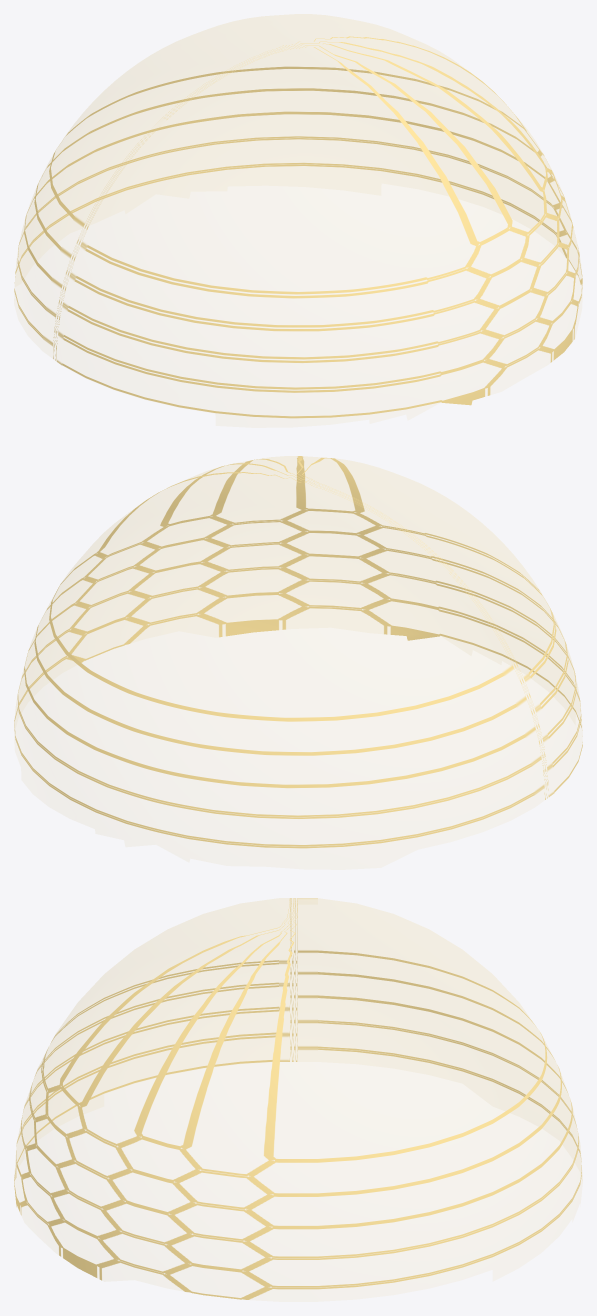
The model's file is fx_dome_gold.glb.
3 renders of one model, top to bottom at view 1: azimuth 30°, elevation 25°; view 2: azimuth 150°, elevation 25°; view 3: azimuth 270°, elevation 25°, orthographic.
Visible parts, largest first — view 1: fx_dome_gold; view 2: fx_dome_gold; view 3: fx_dome_gold.
Boxes of the visible parts, x1,y1,x2,y2 form: fx_dome_gold: (14, 14, 582, 418); fx_dome_gold: (14, 456, 582, 848); fx_dome_gold: (14, 898, 582, 1299).
Bounding box in the file's own units: 2 × 1.05 × 2.
Materials: 1 (1 with a texture image).
